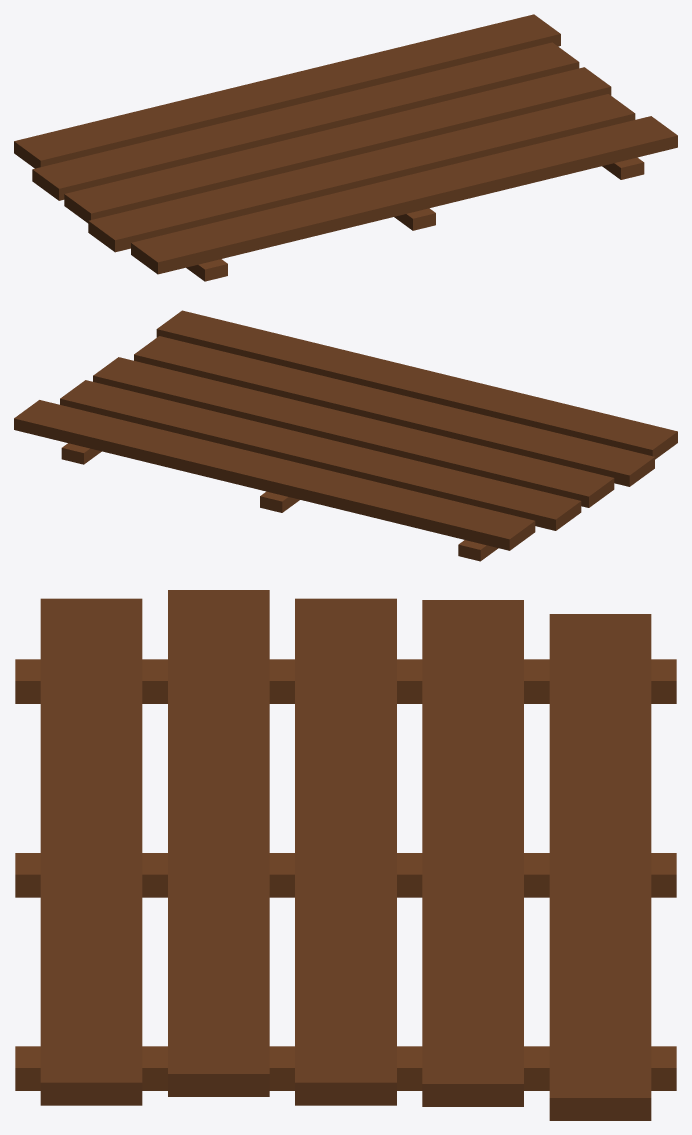
Rendered from Palette.fbx.
The picture shows the model from 3 angles, top to bottom: view 1: azimuth 30°, elevation 25°; view 2: azimuth 150°, elevation 25°; view 3: azimuth 270°, elevation 25°; orthographic projection. The views are drawn at different scales.
Parts seen in each view (by area): view 1: Palette; view 2: Palette; view 3: Palette.
Boxes of the visible parts, bbox=[...] form: Palette: bbox=[14, 14, 677, 281]; Palette: bbox=[14, 310, 677, 561]; Palette: bbox=[15, 590, 676, 1120].
Bounding box in the file's own units: 472 × 20 × 260.
